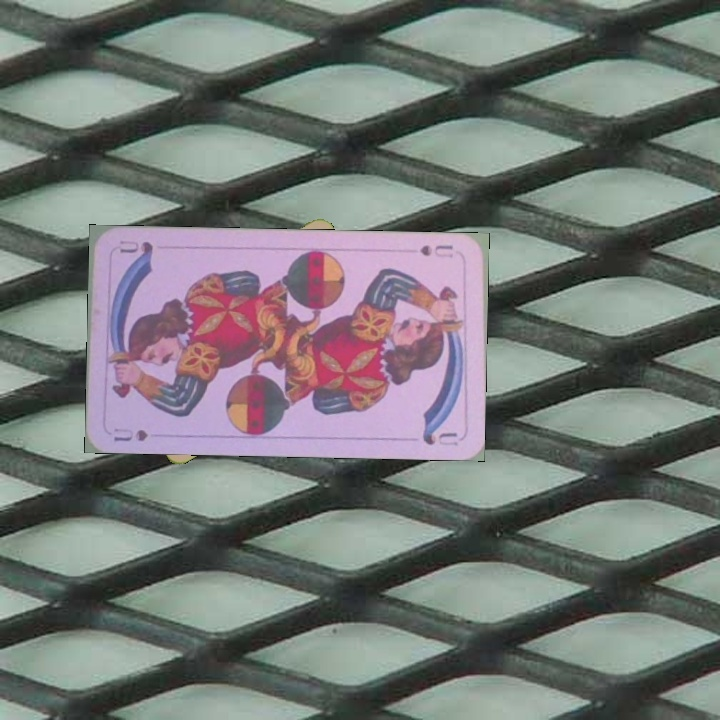SU: (415, 240, 456, 261), (109, 424, 151, 444)
